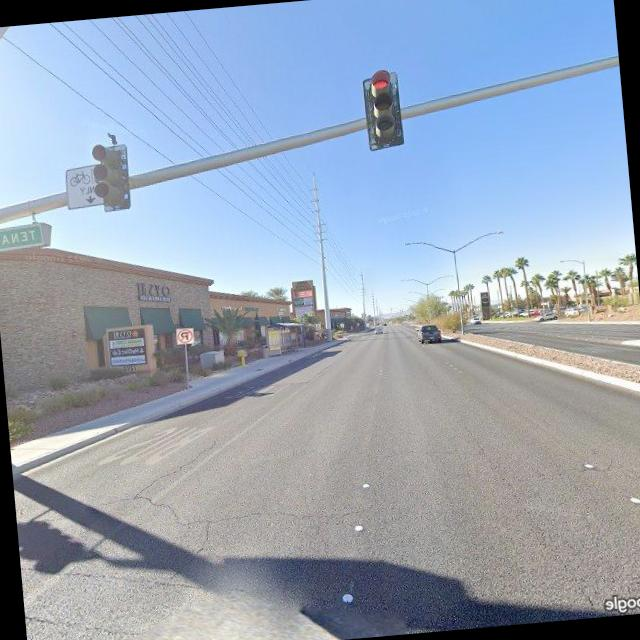crack: (124, 462, 416, 542), (22, 546, 225, 608), (123, 436, 230, 502), (162, 517, 220, 587), (26, 607, 137, 640)
